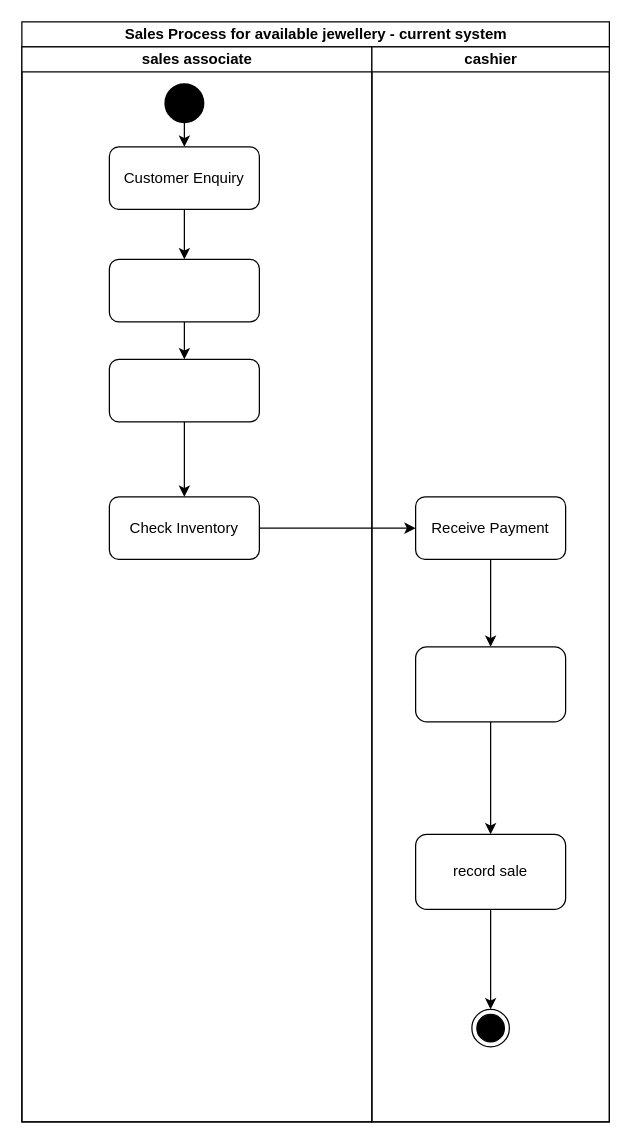
Some shapes in this 631 by 1144 pixel diagram are drawn without their labels. Here are the shapes that lost their labels. From the top down, the box of each, then its label:
(108, 258, 259, 322): Show item
(108, 358, 259, 422): Price Discussion
(414, 646, 566, 722): issue Receipt
